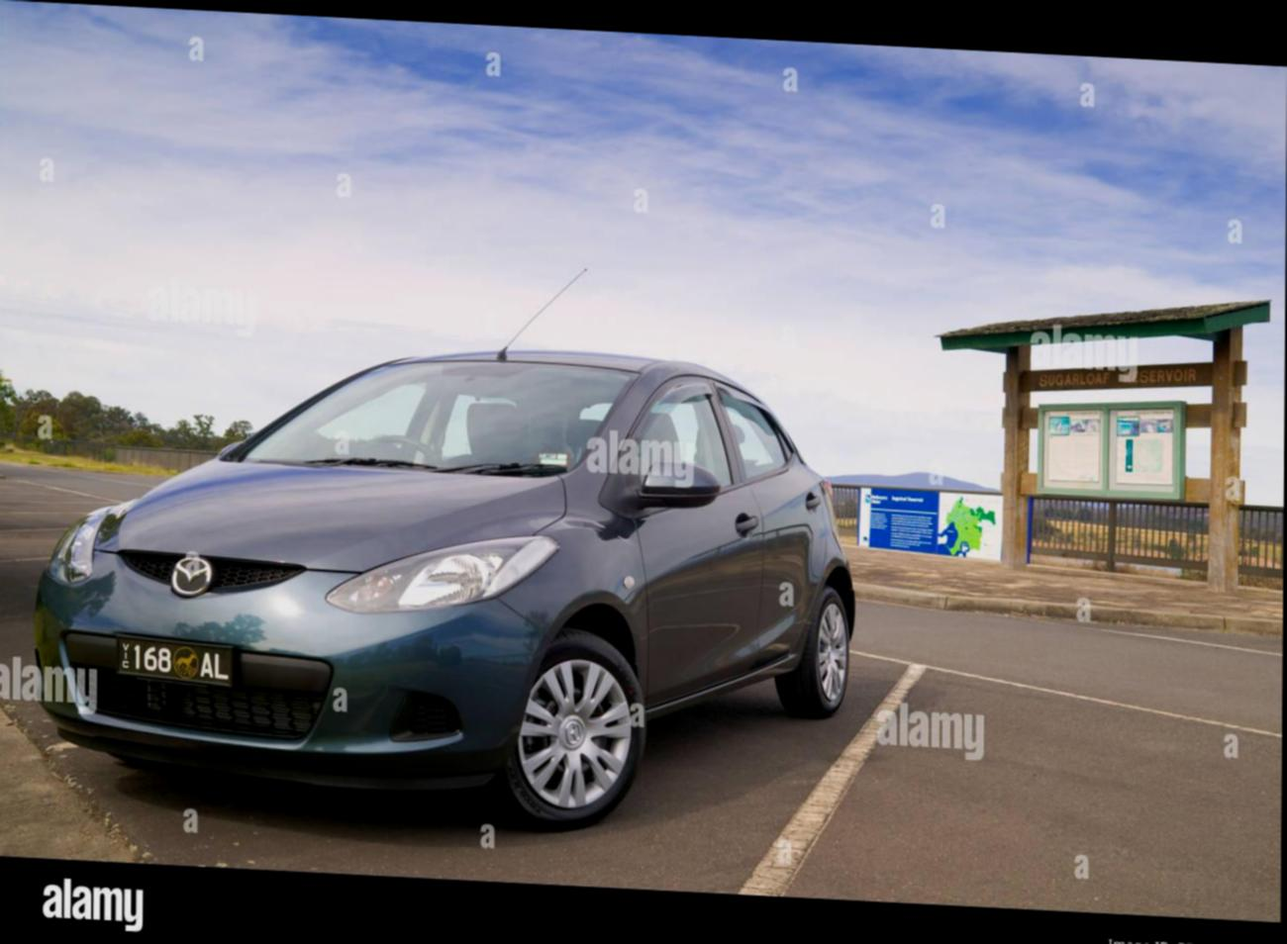License_Plate: (103, 615, 246, 696)
